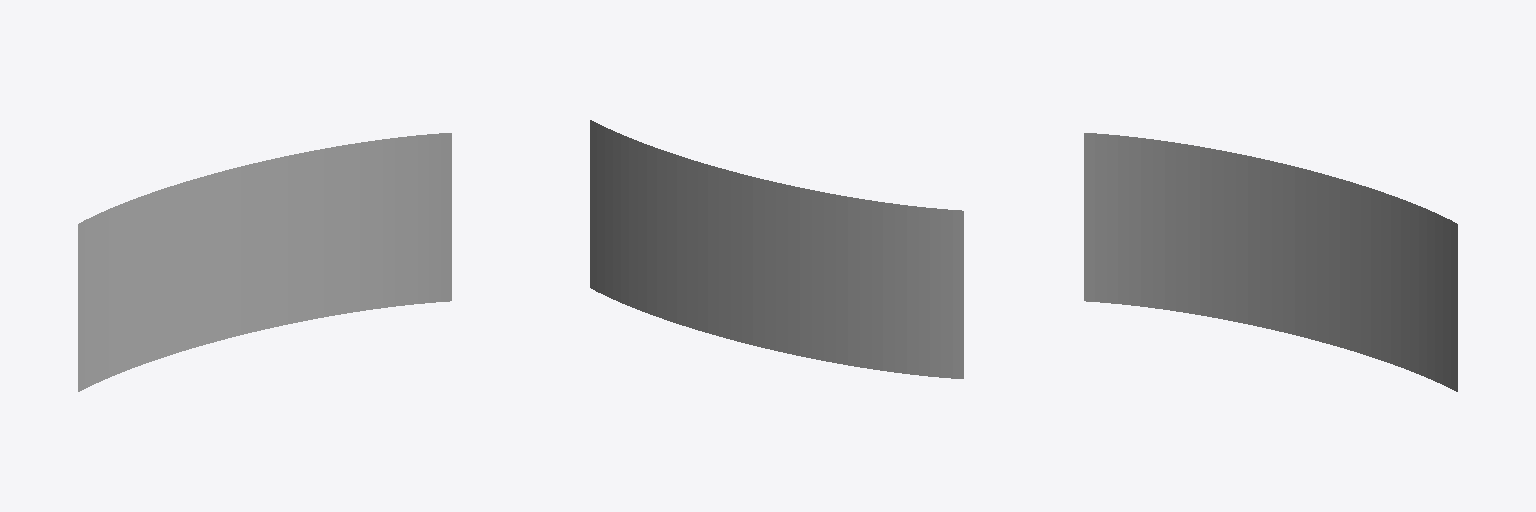
Rendered from curved_screen_test.obj.
3 renders of one model, left to right at view 1: azimuth 30°, elevation 25°; view 2: azimuth 150°, elevation 25°; view 3: azimuth 330°, elevation 25°, orthographic.
Visible parts, largest first — view 1: NurbsCurve_CUNurbsCurve.001; view 2: NurbsCurve_CUNurbsCurve.001; view 3: NurbsCurve_CUNurbsCurve.001.
Boxes of the visible parts, box(x1,y1,x2,y2) form: NurbsCurve_CUNurbsCurve.001: box(78, 133, 451, 391); NurbsCurve_CUNurbsCurve.001: box(590, 120, 963, 378); NurbsCurve_CUNurbsCurve.001: box(1084, 133, 1457, 391).
Size of the model in its own units: 1.5 by 0.6479 by 0.1249.